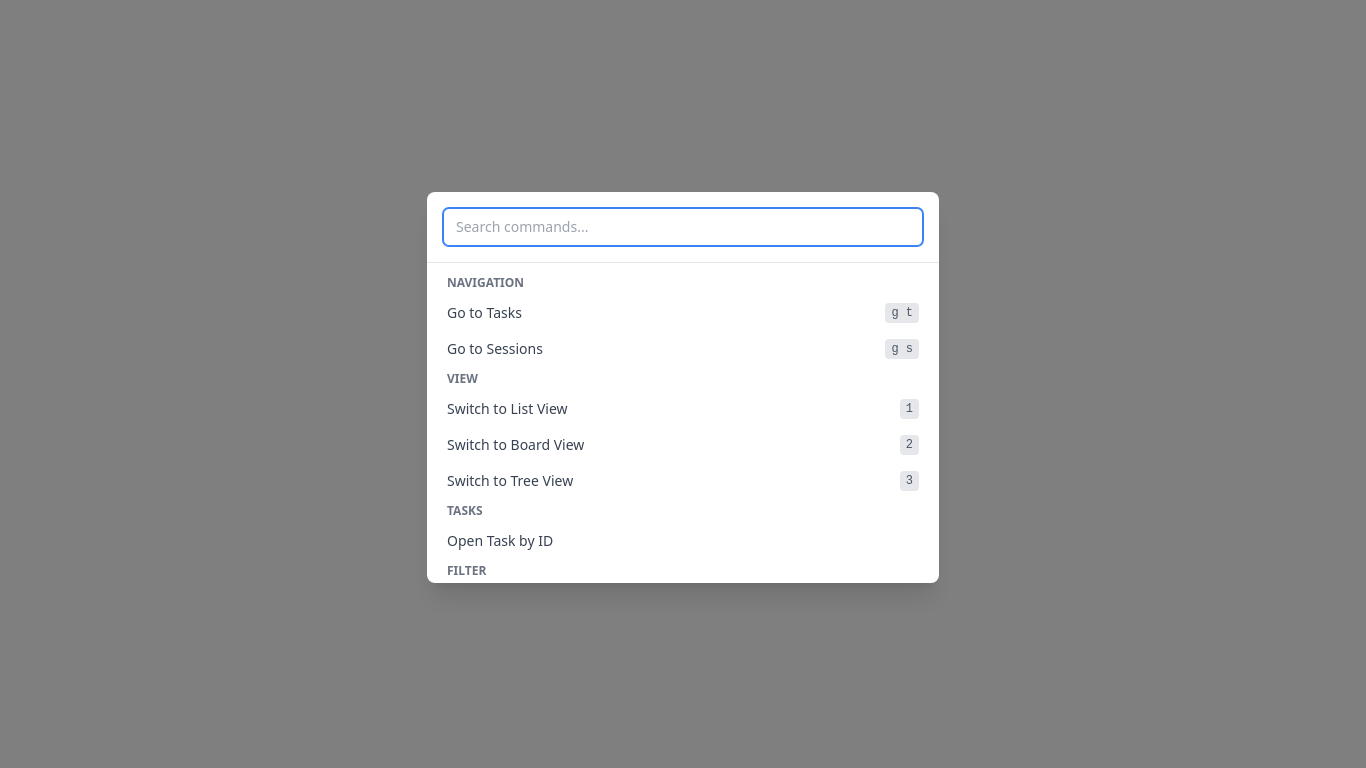
Test case: CommandPalette › Fuzzy Search › filters commands based on search query
In the dropdown: (683, 227) [443,208,923,246], type "task"
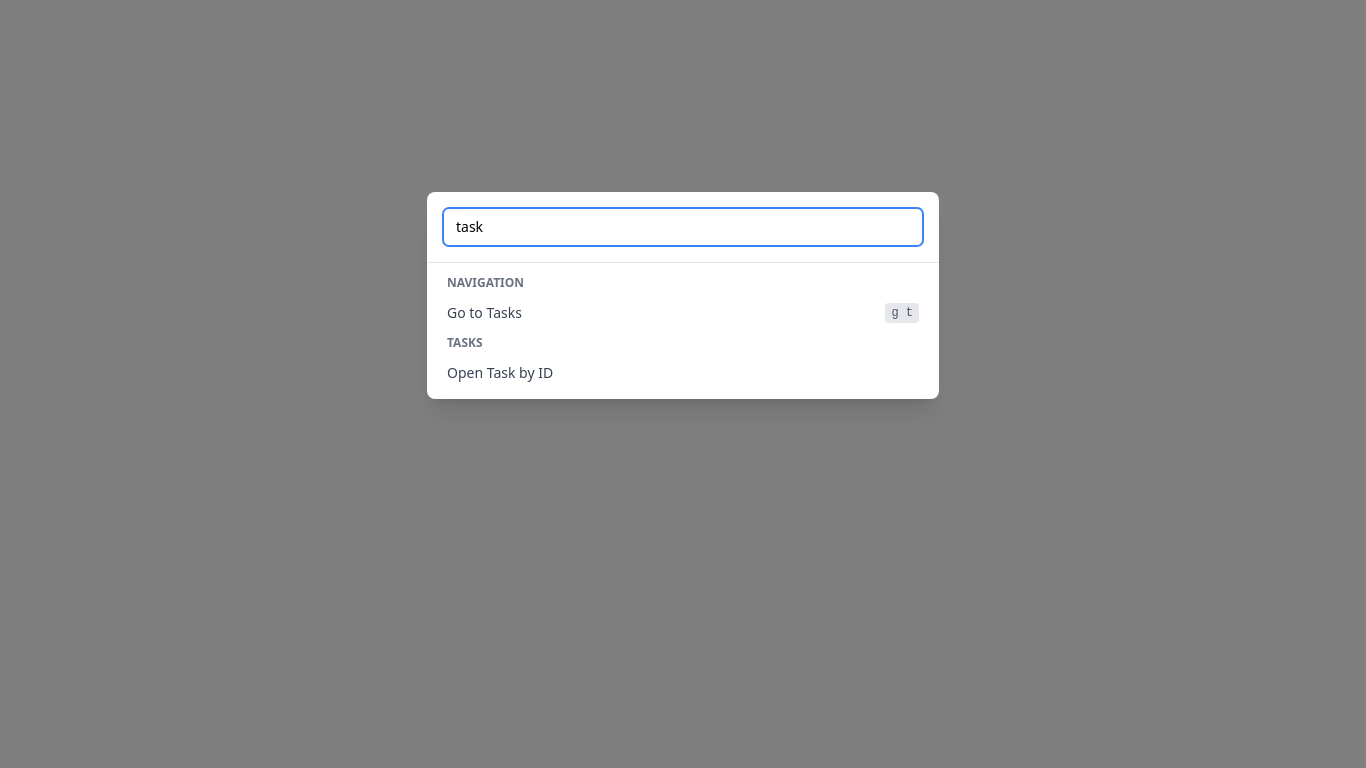
Expected: the text "Go to Tasks" is shown, [447,303,522,323]
Result: the option "Go to Sessions" is gone
